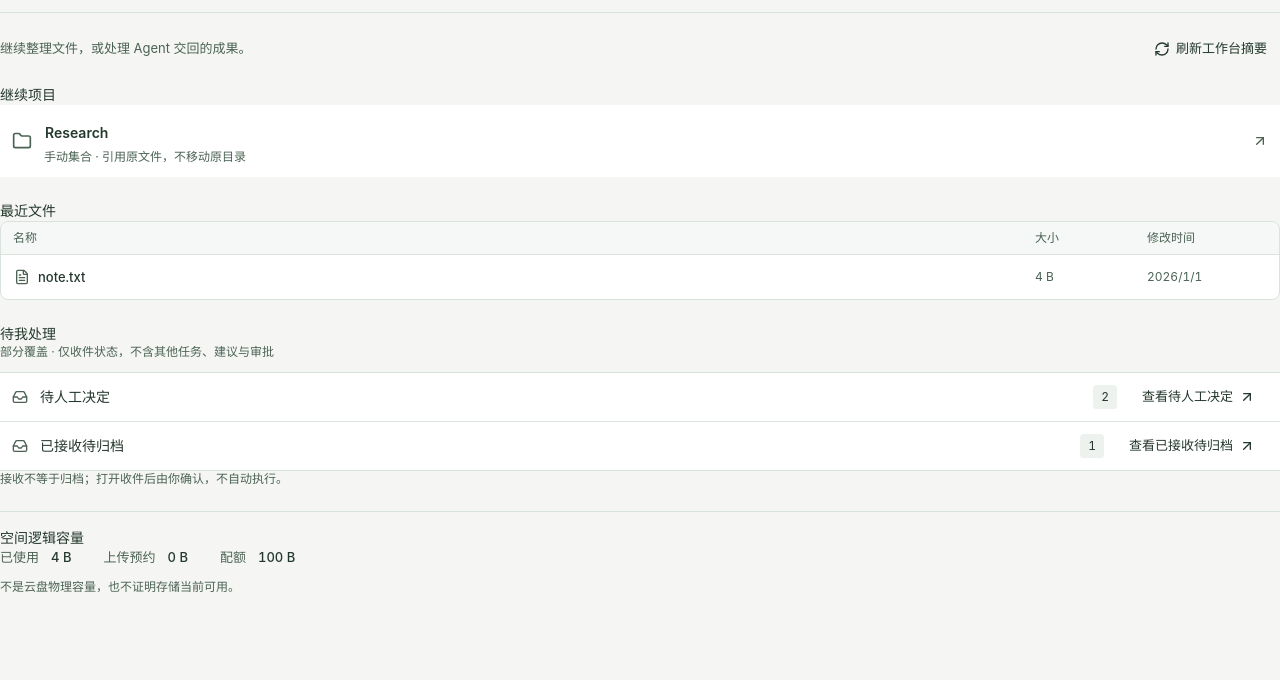
Test: clears both the parent summary and reader when body access is revoked
Click the button with aria-label "查看固定引用：note.txt". click: (62, 277)
box: [13, 259, 1011, 295]
(page scrolled)
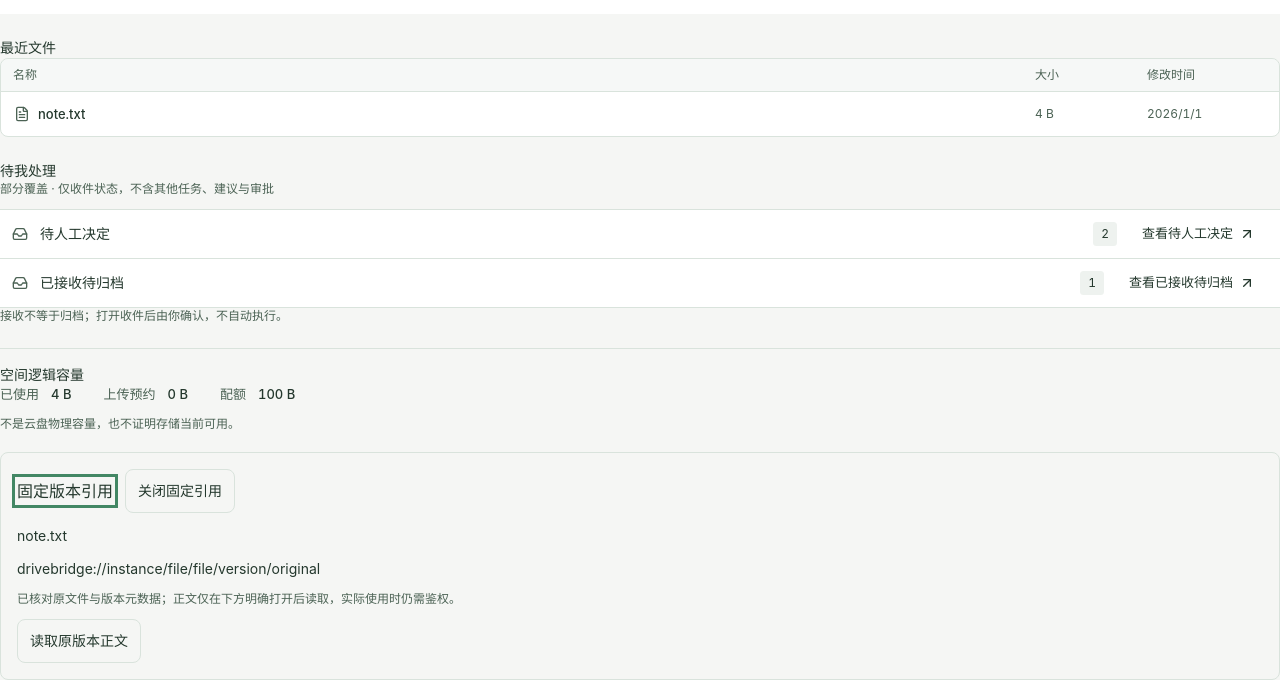
Click the button "读取原版本正文". click: (79, 641)
box: [17, 619, 141, 663]
(page scrolled)
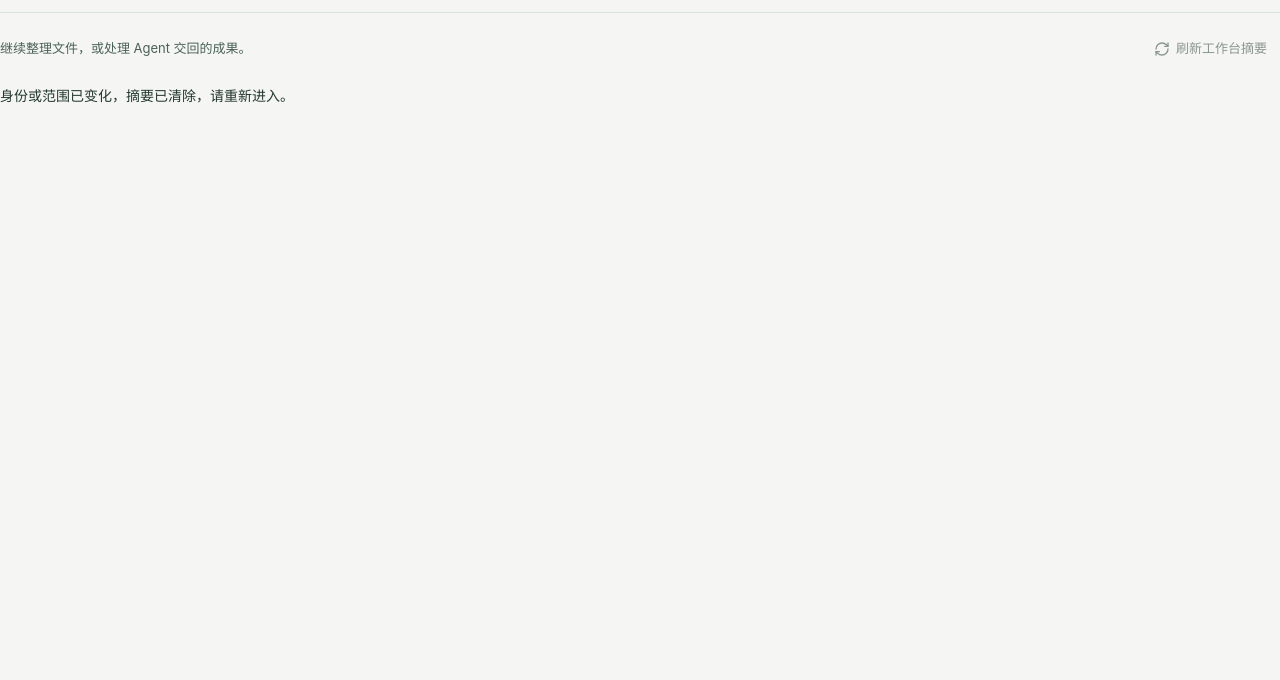
Expected: the text "身份或范围已变化，摘要已清除，请重新进入。" is shown, [0, 87, 294, 104]
Expected: the element "首页固定引用" is gone
